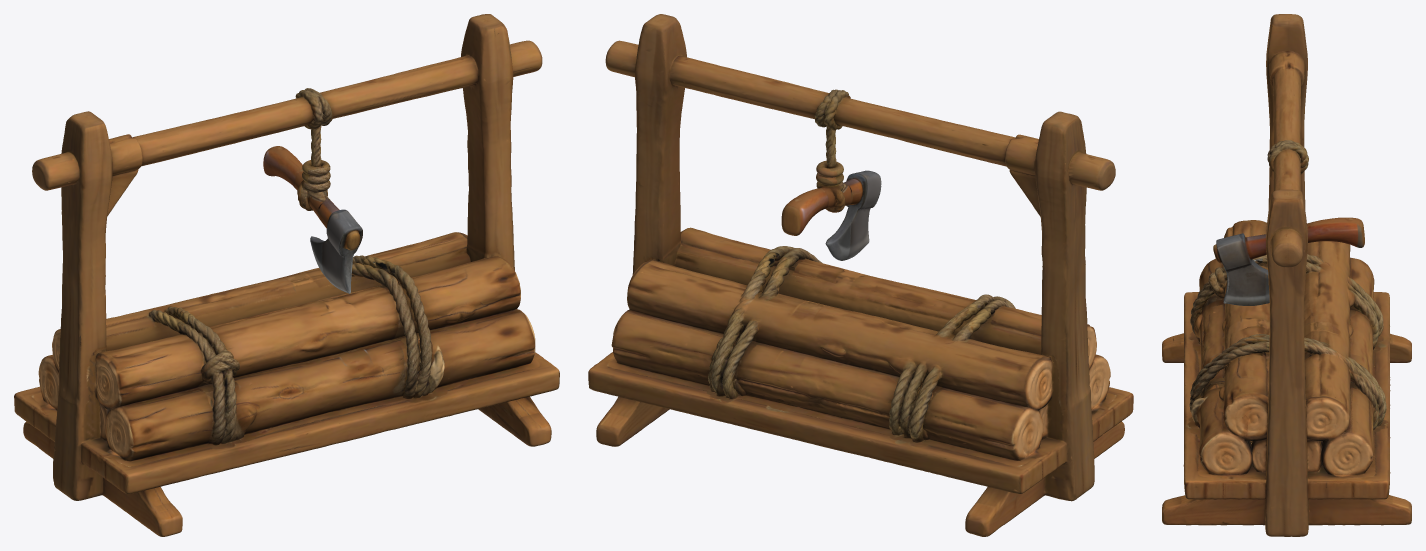
Rendered from Woodcutter_s_Rest_1028232919_texture.fbx.
3 renders of one model, left to right at view 1: azimuth 30°, elevation 25°; view 2: azimuth 150°, elevation 25°; view 3: azimuth 270°, elevation 25°, orthographic. The views are drawn at different scales.
Parts seen in each view (by area): view 1: input; view 2: input; view 3: input.
Boxes of the visible parts, x1,y1,x2,y2 form: input: (14, 14, 559, 536); input: (588, 14, 1133, 536); input: (1162, 14, 1411, 536).
Size of the model in its own units: 190 by 136 by 92.2.
Materials: 1 (1 with a texture image).
